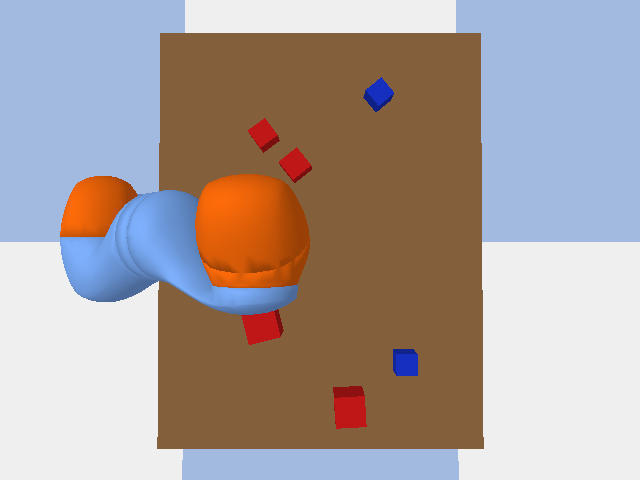blue_obj: (363, 77, 393, 111), (393, 349, 417, 375)
red_obj: (241, 309, 283, 344), (333, 386, 366, 428), (279, 147, 311, 182), (248, 118, 279, 152)
